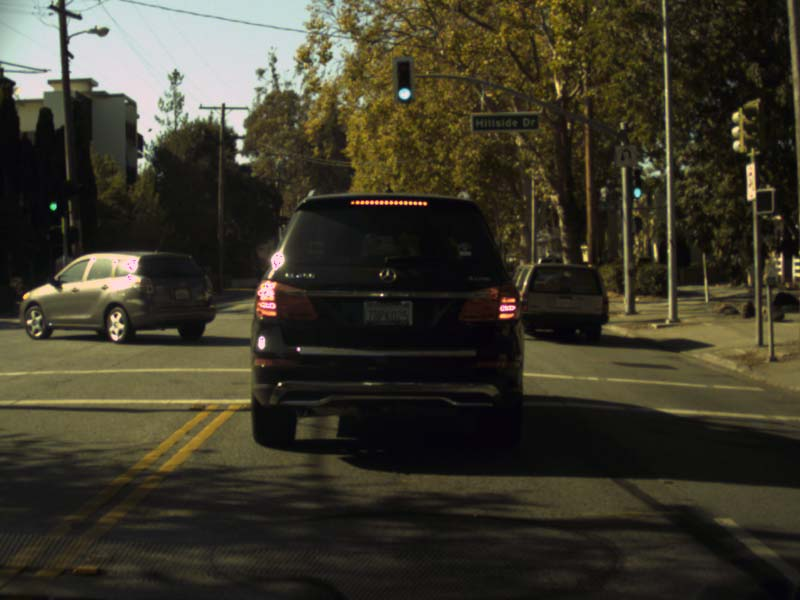Green: (393, 60, 413, 103), (46, 185, 60, 214), (631, 168, 641, 197)
